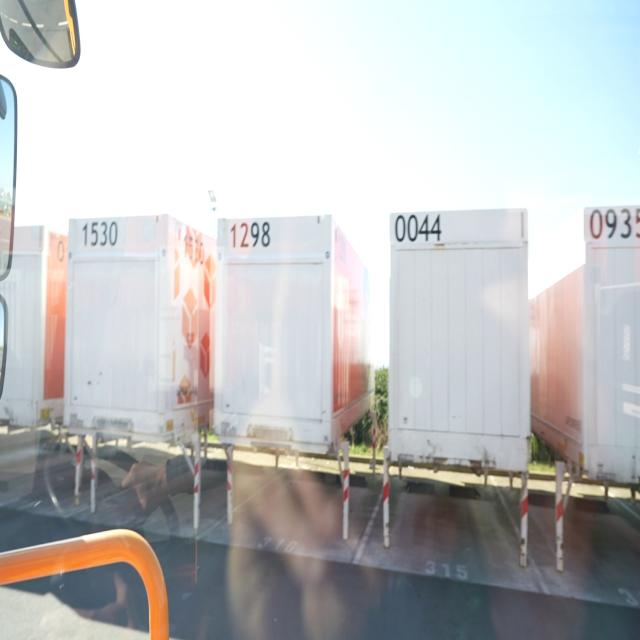Code: (392, 204, 444, 250), (588, 202, 640, 246), (225, 215, 274, 255), (82, 216, 120, 252)
